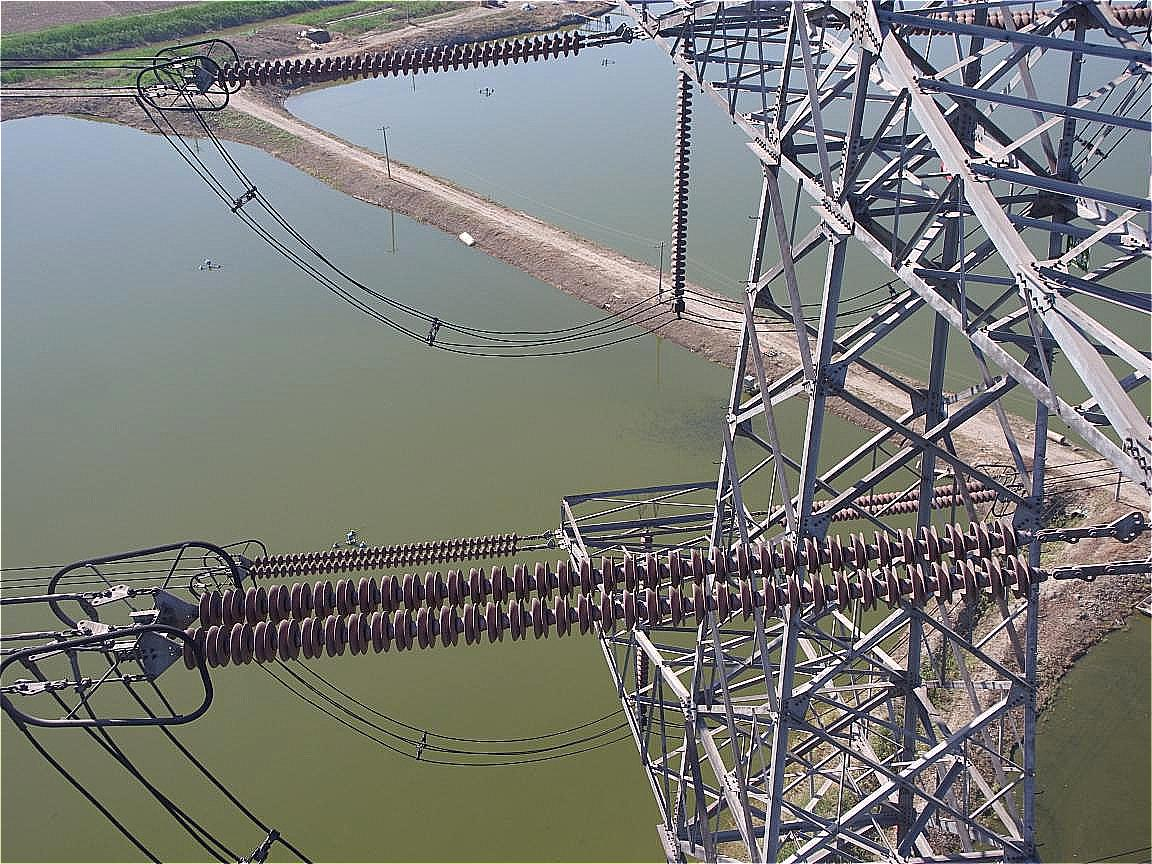insultor1: (205, 24, 588, 103), (238, 518, 523, 584), (661, 49, 706, 305)
insultor2: (165, 509, 1019, 679)
